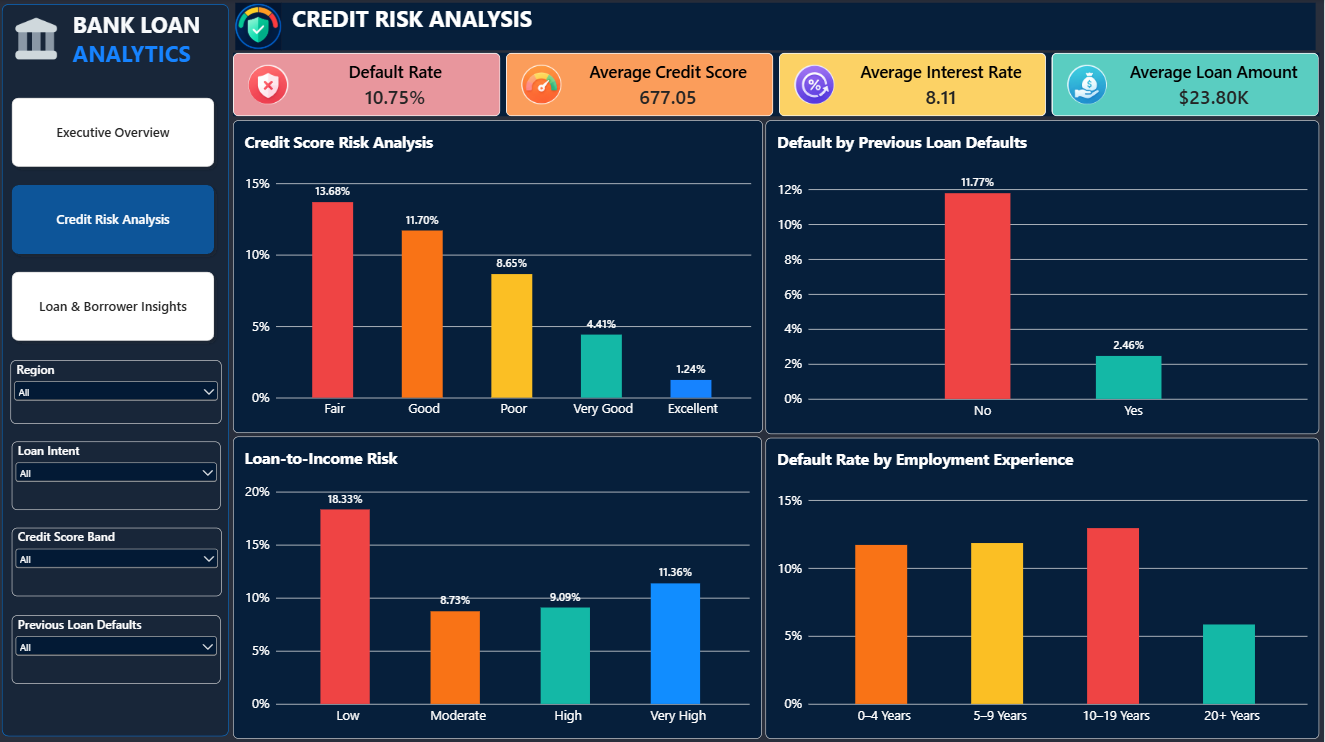

The dashboard page shown, as its layout file describes it:
{"tool":"powerbi","page":{"name":"Credit Risk Analysis","canvas":[1920,1080],"ordinal":1},"visuals":[{"type":"textbox","box":[410.8,5.4,1496.6,68.8],"z":0},{"type":"cardVisual","fields":{"Data":["Bank_Loan_Data.Default Rate","Bank_Loan_Data.Average Credit Score","Bank_Loan_Data.Average Interest Rate","Bank_Loan_Data.Average Loan Amount"]},"box":[340.2,77,1572.6,92.3],"z":1000},{"type":"clusteredColumnChart","title":"Default by Previous Loan Defaults","fields":{"Y":["Bank_Loan_Data.Default Rate"],"Category":["Bank_Loan_Data.Previous_Loan_Defaults"]},"box":[1111.1,175.5,801.7,454.2],"z":2000},{"type":"clusteredColumnChart","title":"Loan-to-Income Risk","fields":{"Y":["Bank_Loan_Data.Default Rate"],"Category":["Bank_Loan_Data.Loan Income Risk Band"]},"box":[340.2,633.4,765.5,437.9],"z":3000},{"type":"clusteredColumnChart","title":"Default Rate by Employment Experience","fields":{"Y":["Bank_Loan_Data.Default Rate"],"Category":["Bank_Loan_Data.Employment Experience Band"]},"box":[1111.1,635.2,801.7,436.1],"z":4000},{"type":"clusteredColumnChart","title":"Credit Score Risk Analysis","fields":{"Y":["Bank_Loan_Data.Default Rate"],"Category":["Bank_Loan_Data.Credit Score Band"]},"box":[340.2,175.5,767.3,452.4],"z":5000},{"type":"shape","box":[5.4,7.2,329,1060.5],"z":6000},{"type":"pageNavigator","box":[10.9,133.9,311.3,372.8],"z":7000},{"type":"slicer","fields":{"Values":["Bank_Loan_Data.Region"]},"box":[18.1,523,305.8,92.3],"z":8000},{"type":"slicer","fields":{"Values":["Bank_Loan_Data.Loan_Intent"]},"box":[19.9,640.6,302.2,99.5],"z":9000},{"type":"textbox","box":[90.5,14.5,233.4,119.4],"z":10000},{"type":"slicer","fields":{"Values":["Bank_Loan_Data.Credit Score Band"]},"box":[19.9,765.5,304,99.5],"z":11000},{"type":"slicer","fields":{"Values":["Bank_Loan_Data.Previous_Loan_Defaults"]},"box":[19.9,892.2,302.2,99.5],"z":12000},{"type":"image","box":[21.7,10.9,67,92.3],"z":13000},{"type":"image","box":[327.5,5.4,99.5,68.8],"z":14000}]}

Visuals, with their boxes in screenshot pixels (x1, y1, x2, y2), scaled from the page's 1920x1080 canvas onto the 1325x742 screenshot:
textbox: [283,4,1316,51]
cardVisual - Bank_Loan_Data.Default Rate x Bank_Loan_Data.Average Credit Score: [235,53,1320,116]
"Default by Previous Loan Defaults" clusteredColumnChart: [767,121,1320,433]
"Loan-to-Income Risk" clusteredColumnChart: [235,435,763,736]
"Default Rate by Employment Experience" clusteredColumnChart: [767,436,1320,736]
"Credit Score Risk Analysis" clusteredColumnChart: [235,121,764,431]
shape: [4,5,231,734]
pageNavigator: [8,92,222,348]
slicer - Bank_Loan_Data.Region: [12,359,224,423]
slicer - Bank_Loan_Data.Loan_Intent: [14,440,222,508]
textbox: [62,10,224,92]
slicer - Bank_Loan_Data.Credit Score Band: [14,526,224,594]
slicer - Bank_Loan_Data.Previous_Loan_Defaults: [14,613,222,681]
image: [15,7,61,71]
image: [226,4,295,51]
